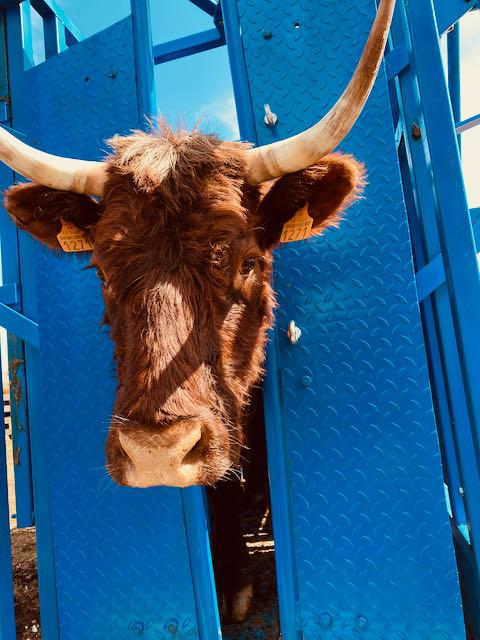muzzles: (95, 418, 243, 495)
